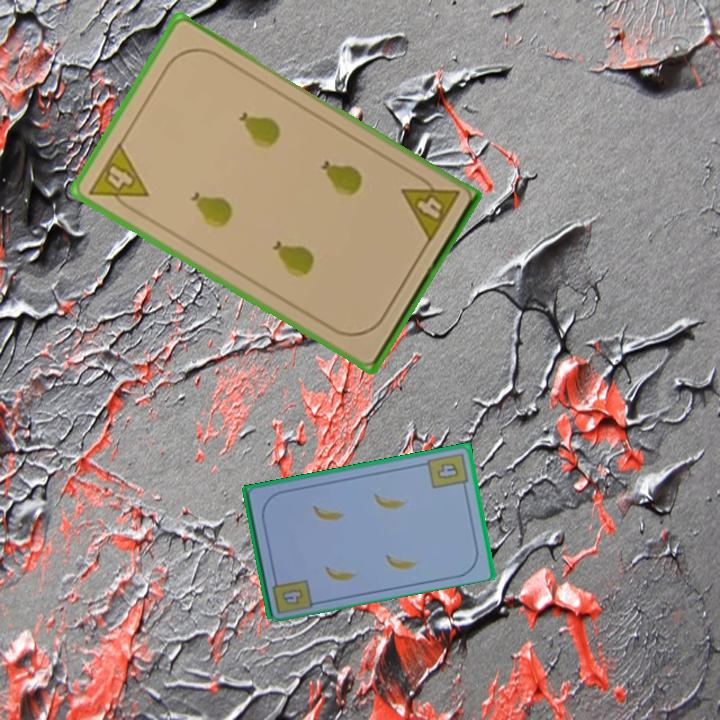4b: (424, 449, 470, 492), (278, 585, 306, 608)
4p: (85, 139, 152, 218), (397, 169, 462, 246)
